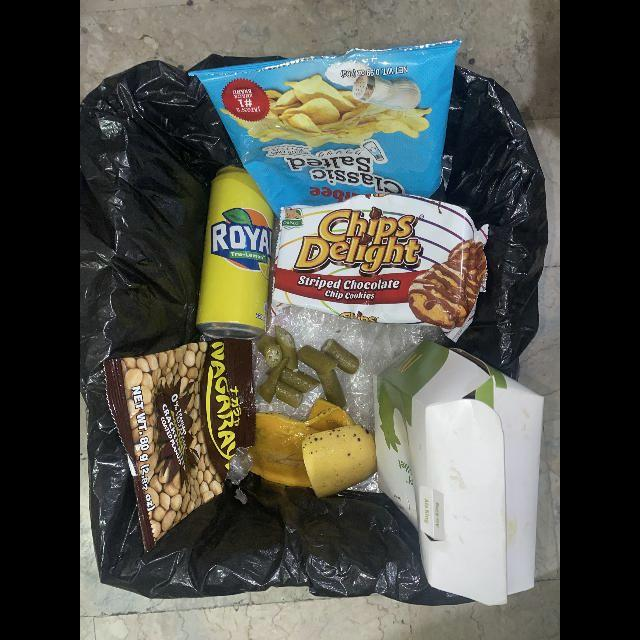aluminum: (195, 166, 274, 340)
cardboard: (375, 341, 544, 607)
food_wrapper: (187, 40, 461, 216), (104, 338, 256, 553), (271, 194, 489, 343)
left_over_food: (257, 326, 359, 409)
